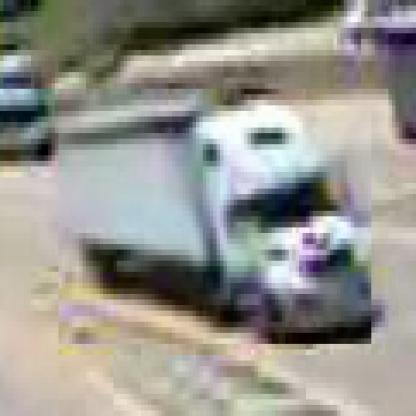container: (59, 107, 376, 351)
